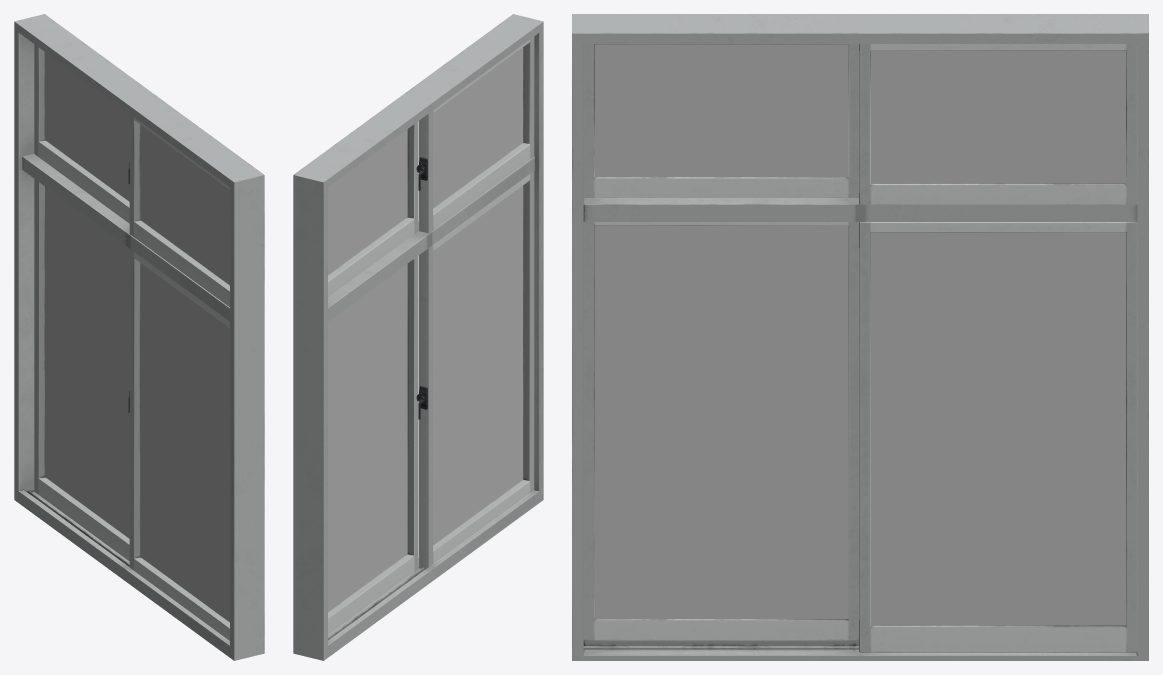
File: SM_Window_150.fbx
The picture shows the model from 3 angles, left to right: view 1: azimuth 30°, elevation 25°; view 2: azimuth 150°, elevation 25°; view 3: azimuth 270°, elevation 25°; orthographic projection. The views are drawn at different scales.
Visible parts, largest first — view 1: SM_Window_150_LOD0; view 2: SM_Window_150_LOD0; view 3: SM_Window_150_LOD0.
Part boxes in pixels (left/top/right/bottom): SM_Window_150_LOD0: left=14, top=14, right=264, bottom=660; SM_Window_150_LOD0: left=293, top=14, right=543, bottom=660; SM_Window_150_LOD0: left=572, top=14, right=1148, bottom=660.
Size of the model in its own units: 12 by 150 by 180.
